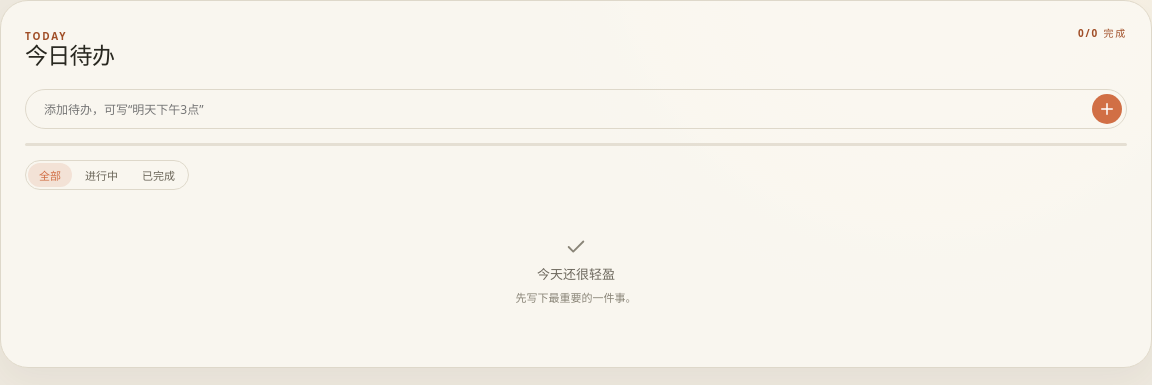
Scenario: TodayTasksPanel 快捷添加 › 点「+」按钮提交：同样入列
In the field named "待办标题": [563, 109] box [42,100,1084,118], type "买牛奶"
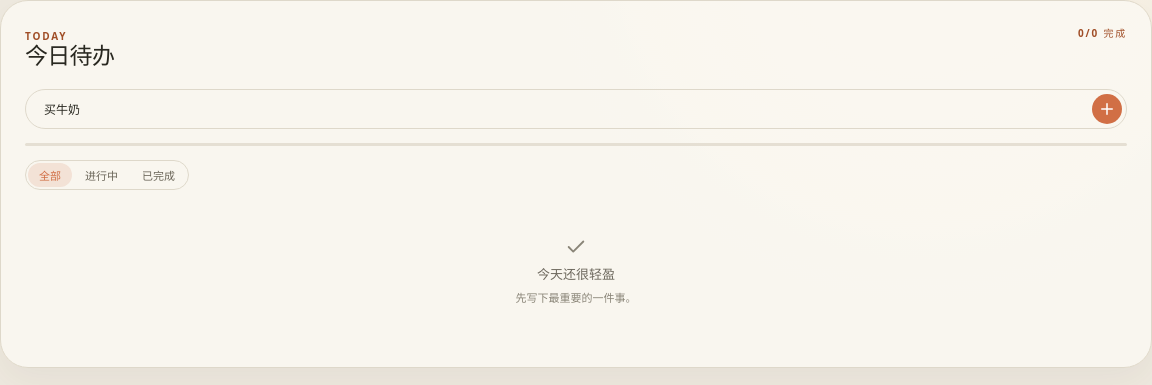
Click the button named "添加待办": [1107, 109] box [1092,94,1122,124]
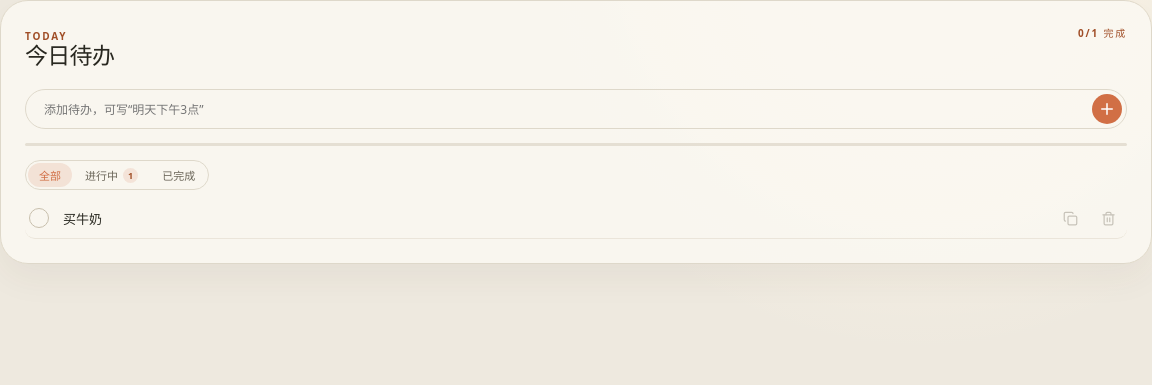
expect the text "买牛奶" is shown: met, box [63,208,102,228]
